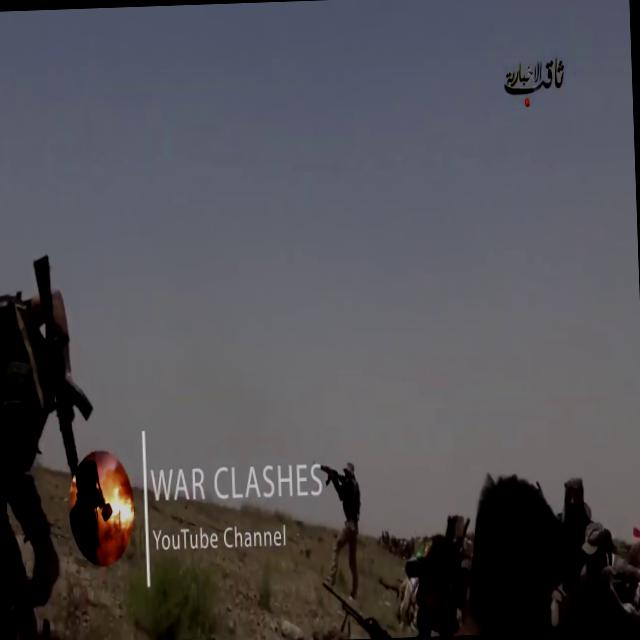long weapon: (25, 255, 105, 493), (308, 456, 345, 489)
